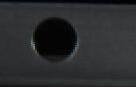holes: (31, 15, 79, 63)
